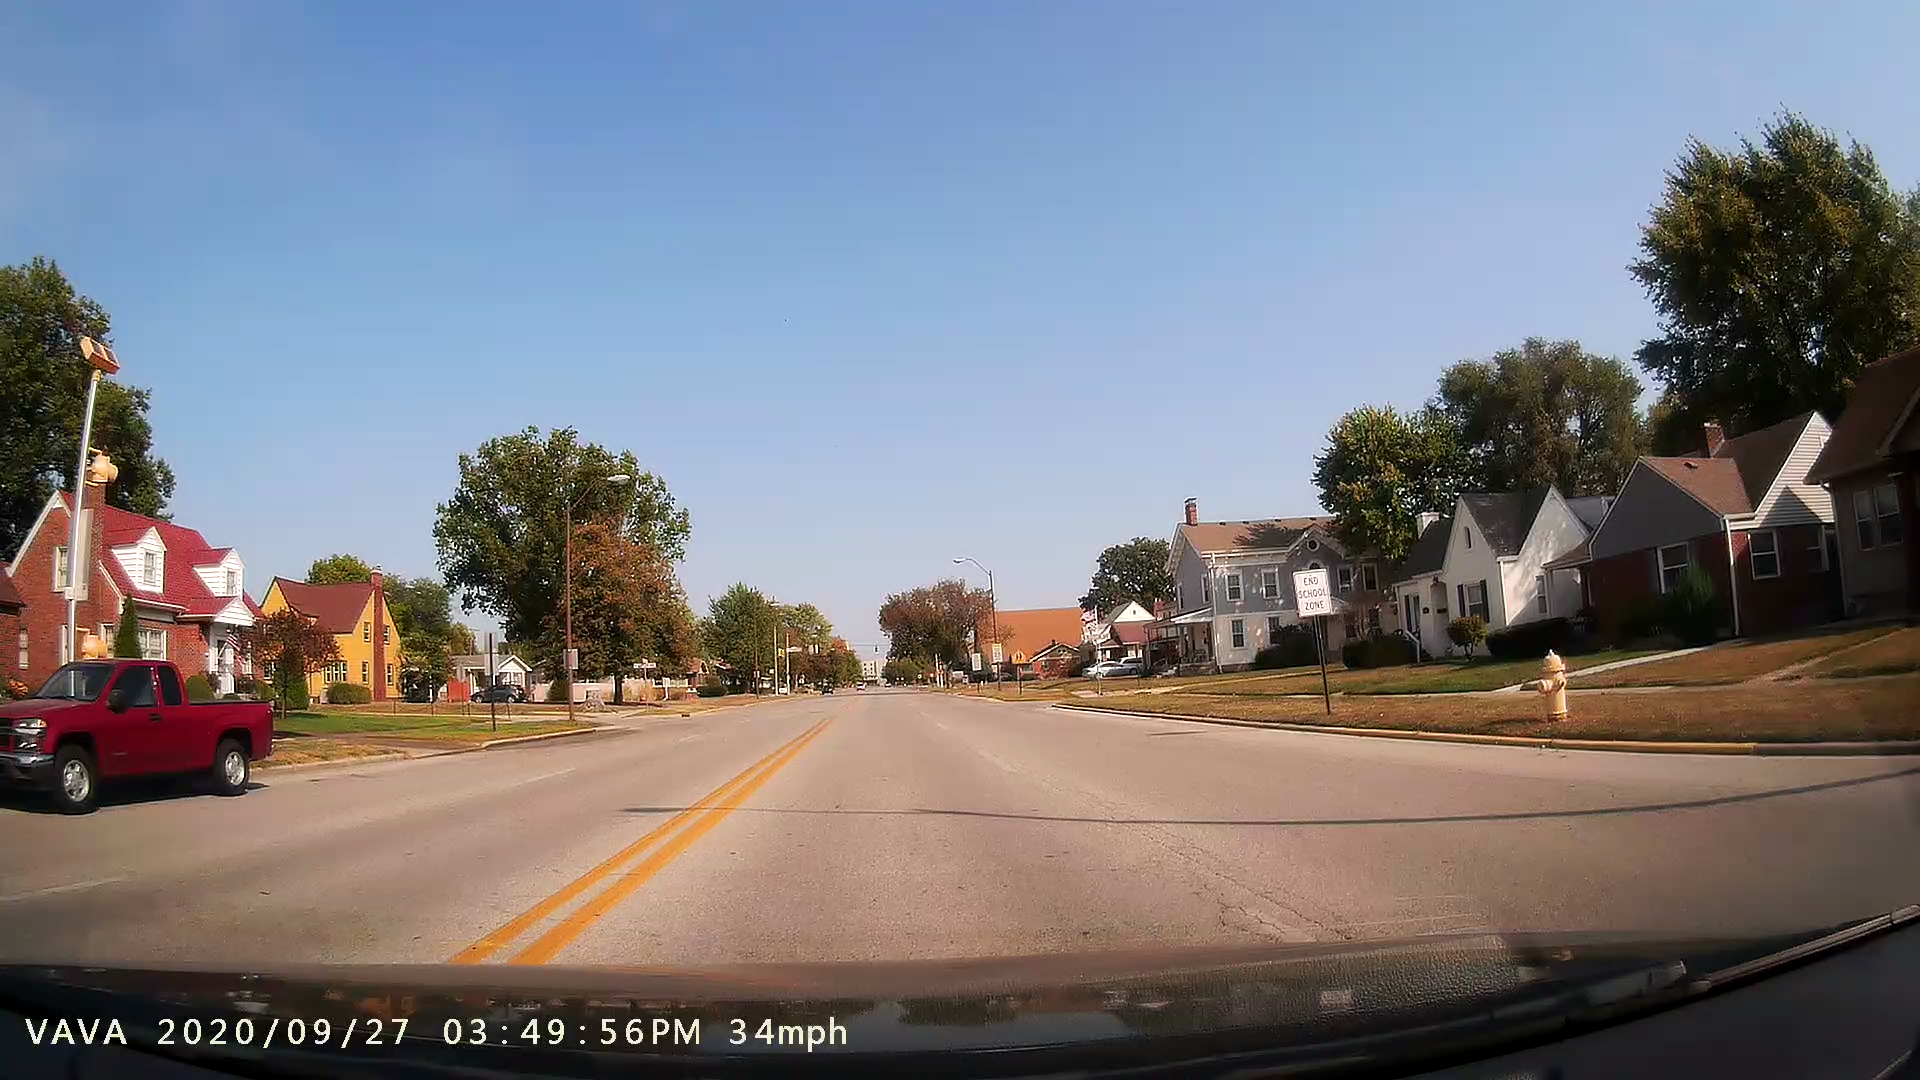fire_hydrant: (1513, 632, 1586, 741)
